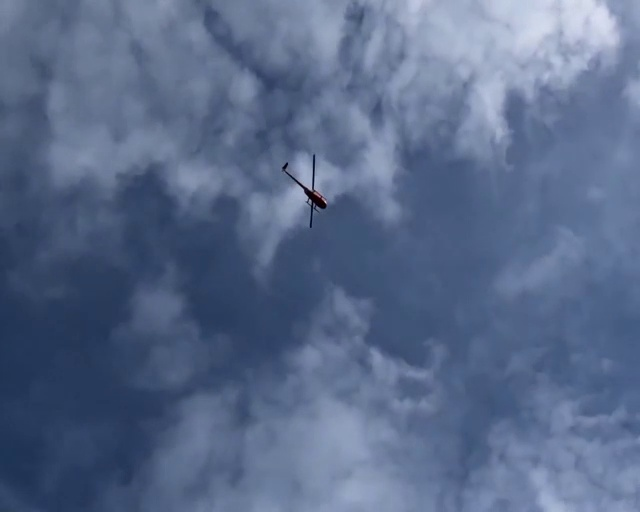HELICOPTER: (280, 155, 329, 229)
